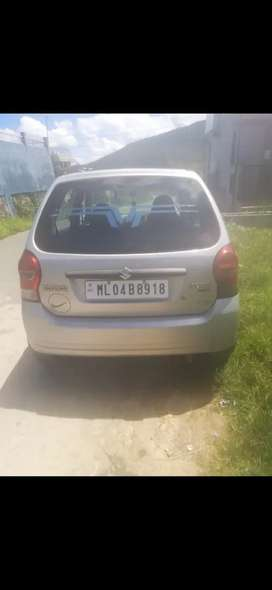ML04B8918: (86, 277, 169, 299)
